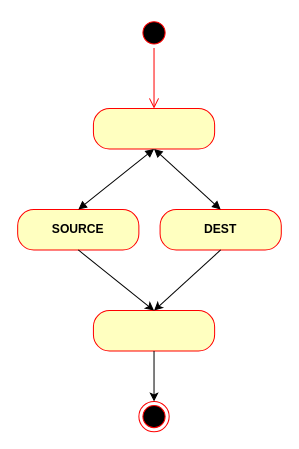
Some shapes in this 299 by 449 pixel diagram are drawn without their labels. The centre of each missing label's shape, as x and y in pixels:
ACTIVE: the point at 153,128
DELETED: the point at 153,330
